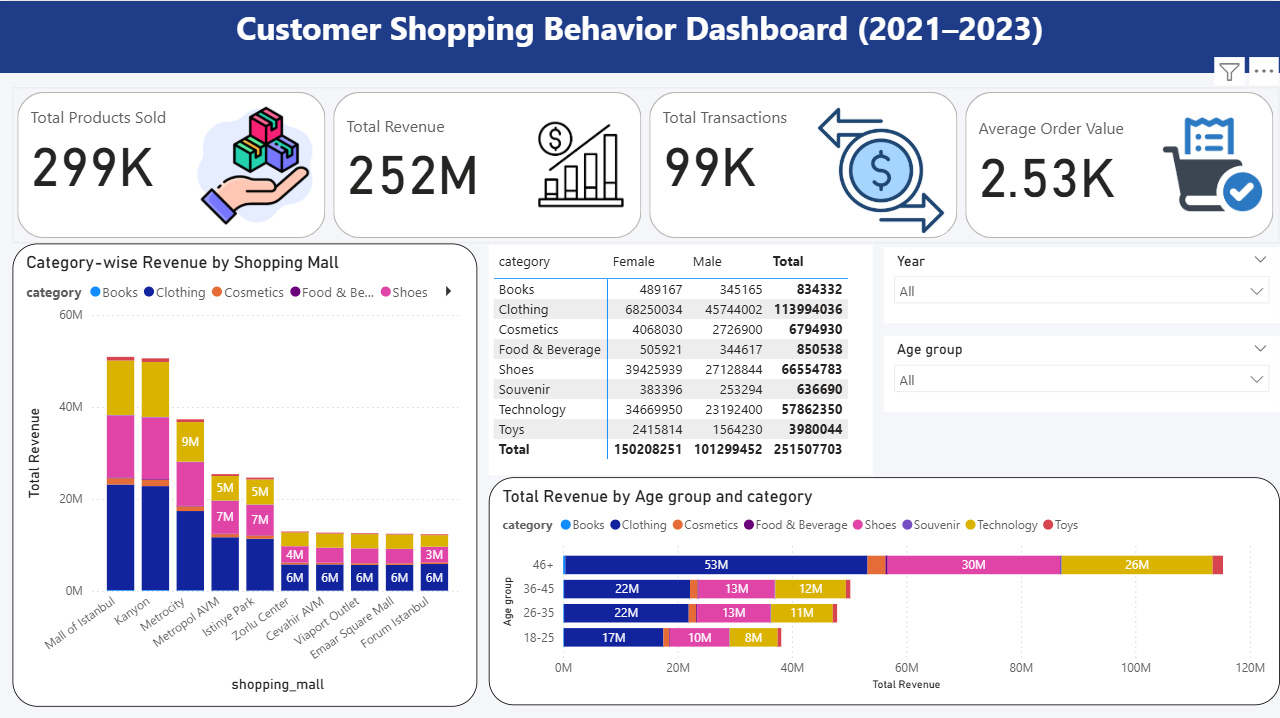

The dashboard page shown, as its layout file describes it:
{"tool":"powerbi","page":{"name":"Category & Mall Analysis","canvas":[1280,720],"ordinal":3},"visuals":[{"type":"textbox","box":[0,0,1280,72.4],"z":0},{"type":"cardVisual","fields":{"Data":["country_deatils_datasets.Total Products Sold","country_deatils_datasets.Total Revenue","country_deatils_datasets.Total Transactions","country_deatils_datasets.Average Order Value"]},"box":[12.1,85.7,1268,156.8],"z":1000},{"type":"columnChart","title":"Category-wise Revenue by Shopping Mall","fields":{"Category":["country_deatils_datasets.shopping_mall"],"Series":["country_deatils_datasets.category"],"Y":["country_deatils_datasets.Total Revenue"]},"box":[12.1,242.5,464.5,463.3],"z":2000},{"type":"pivotTable","fields":{"Rows":["country_deatils_datasets.category"],"Columns":["country_deatils_datasets.gender"],"Values":["country_deatils_datasets.Total Revenue"]},"box":[488.6,243.7,383.6,230.4],"z":3000},{"type":"barChart","fields":{"Category":["country_deatils_datasets.Age group"],"Series":["country_deatils_datasets.category"],"Y":["country_deatils_datasets.Total Revenue"]},"box":[488.6,476.5,791.4,228],"z":4000},{"type":"slicer","fields":{"Values":["country_deatils_datasets.Year"]},"box":[884.3,246.1,395.7,76],"z":4001},{"type":"slicer","fields":{"Values":["country_deatils_datasets.Age group"]},"box":[884.3,335.4,395.7,76],"z":4002}]}

Visuals, with their boxes in screenshot pixels (x1, y1, x2, y2), scaled from the page's 1280x720 canvas onto the 1280x718 screenshot:
textbox: region(0, 0, 1279, 72)
cardVisual - country_deatils_datasets.Total Products Sold x country_deatils_datasets.Total Revenue: region(12, 85, 1279, 242)
"Category-wise Revenue by Shopping Mall" columnChart: region(12, 242, 477, 704)
pivotTable - country_deatils_datasets.category x country_deatils_datasets.gender: region(489, 243, 872, 473)
barChart - country_deatils_datasets.Age group x country_deatils_datasets.category: region(489, 475, 1279, 703)
slicer - country_deatils_datasets.Year: region(884, 245, 1279, 321)
slicer - country_deatils_datasets.Age group: region(884, 334, 1279, 410)
